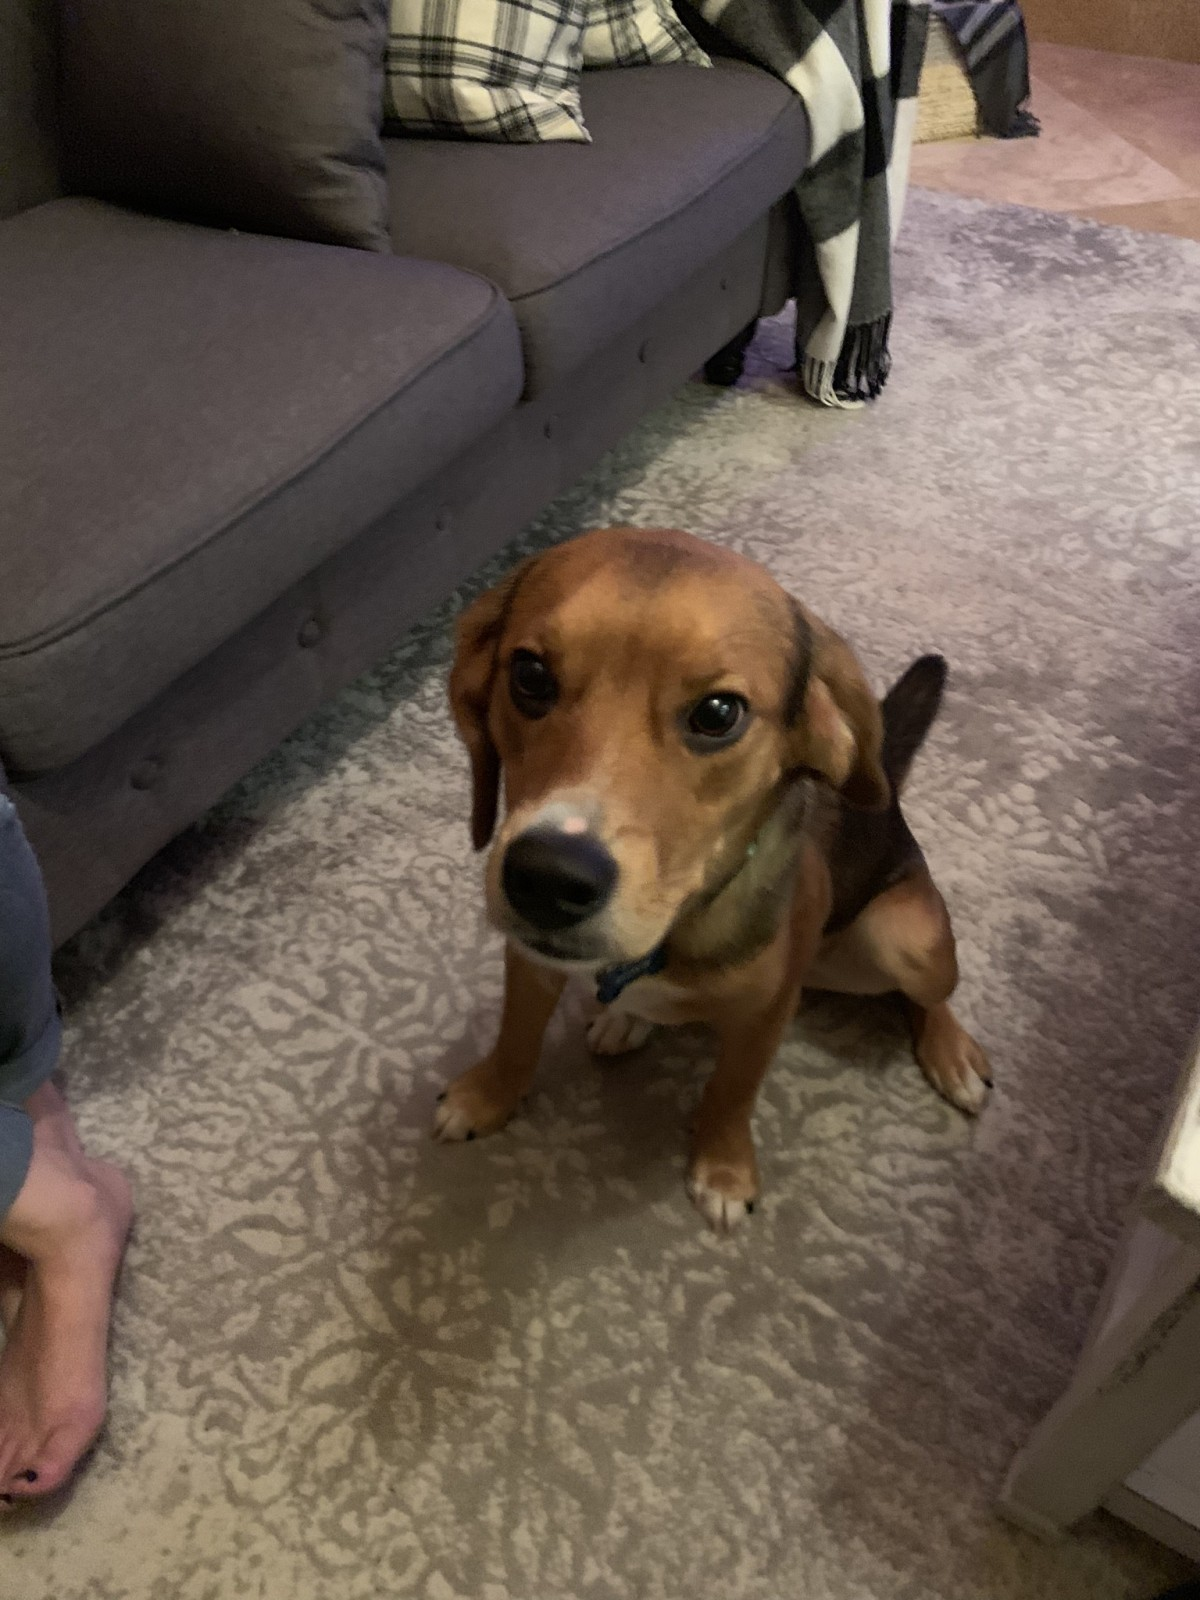dog: (405, 529, 1042, 1218)
